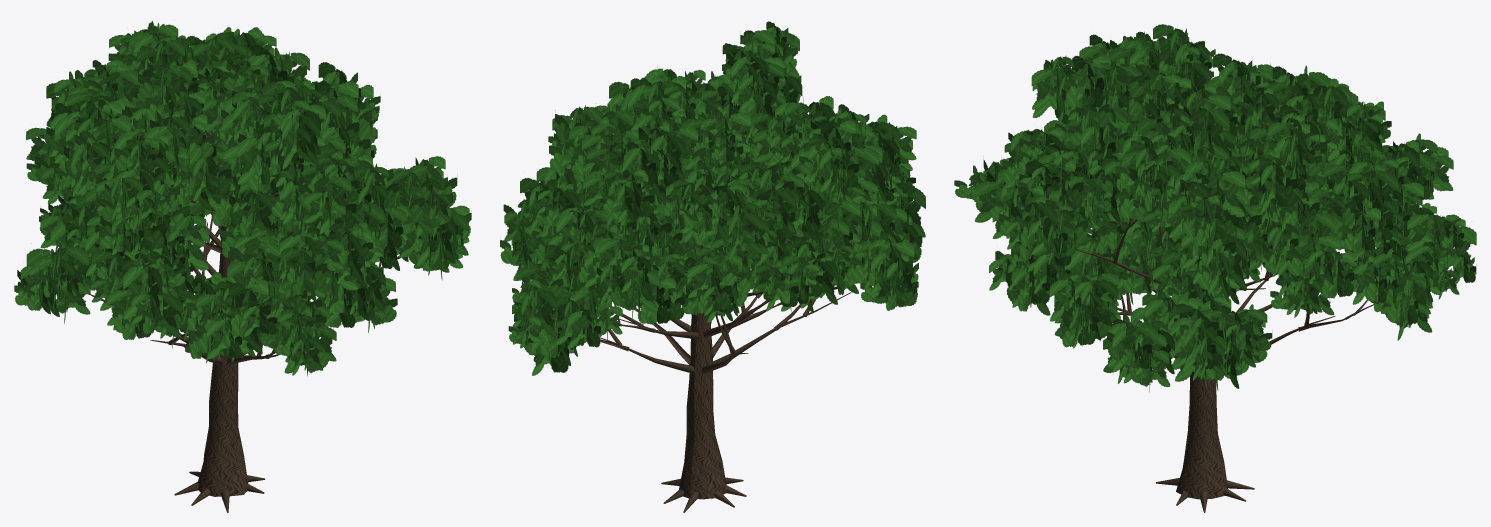
Rendered from oak_lod0.glb.
The picture shows the model from 3 angles, left to right: view 1: azimuth 30°, elevation 25°; view 2: azimuth 150°, elevation 25°; view 3: azimuth 270°, elevation 25°; orthographic projection. The views are drawn at different scales.
Parts seen in each view (by area): view 1: oak_lod0_leaves, oak_lod0_wood; view 2: oak_lod0_leaves, oak_lod0_wood; view 3: oak_lod0_leaves, oak_lod0_wood.
Part boxes in pixels (x1,y1,x2,y2): oak_lod0_leaves: (14, 21, 471, 375); oak_lod0_wood: (87, 112, 414, 512); oak_lod0_leaves: (500, 21, 925, 375); oak_lod0_wood: (548, 131, 857, 512); oak_lod0_leaves: (954, 24, 1476, 391); oak_lod0_wood: (1075, 99, 1404, 512).
Bounding box in the file's own units: 22.01 × 21.88 × 23.49.
Materials: 2 (2 with a texture image).
